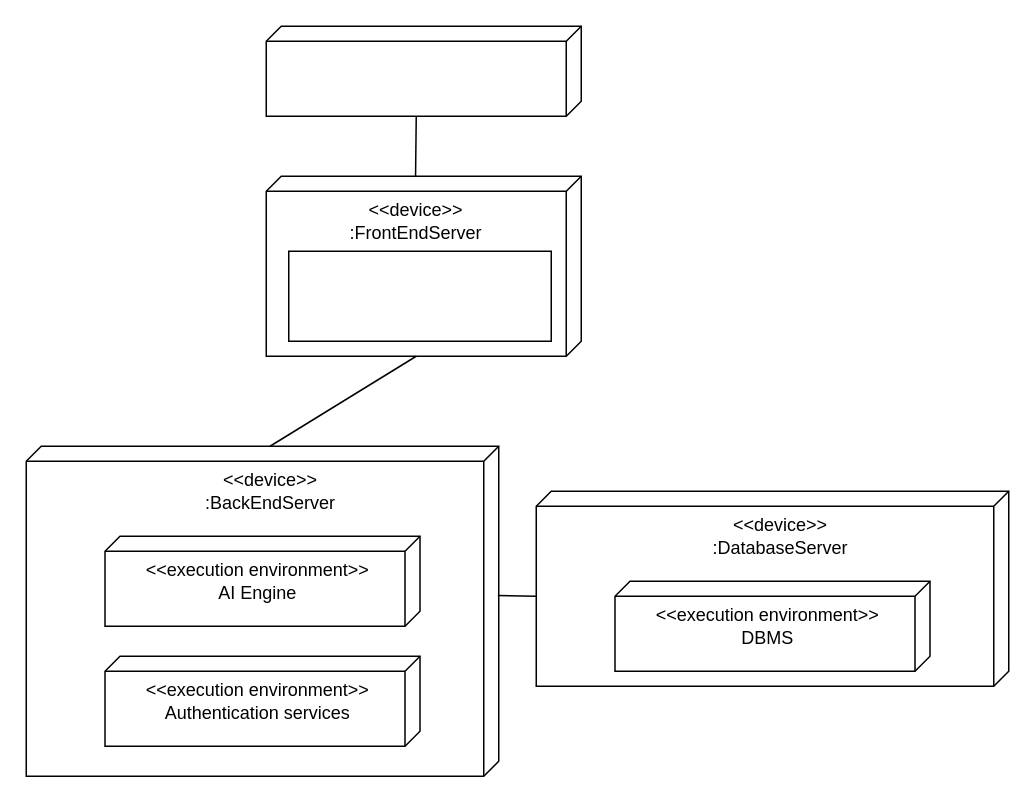
Image size: 1035x803. Some labels were removed from this diagram. Each missing label, with the box of its shape:
<<device>> User devices (Desktop/Mobile): (265, 25, 581, 116)
HTML+CSS+JS+Vue.js: (287, 250, 551, 341)
